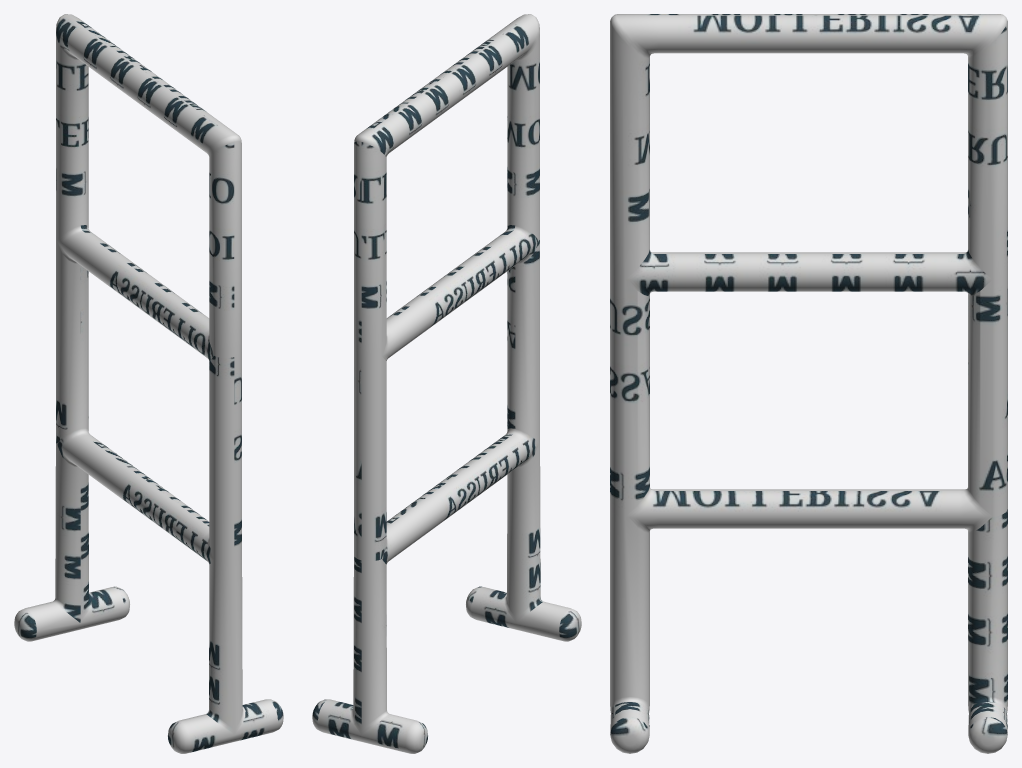
File: ddc_gate7.glb
3 renders of one model, left to right at view 1: azimuth 30°, elevation 25°; view 2: azimuth 150°, elevation 25°; view 3: azimuth 270°, elevation 25°, orthographic. The views are drawn at different scales.
Parts seen in each view (by area): view 1: DDC_Gate7; view 2: DDC_Gate7; view 3: DDC_Gate7.
Part boxes in pixels (box(x1,y1,x2,y2)): DDC_Gate7: box(14, 14, 283, 753); DDC_Gate7: box(312, 14, 581, 753); DDC_Gate7: box(610, 14, 1007, 753).
Bounding box in the file's own units: 1.25 × 6.76 × 3.42.
Materials: 1 (1 with a texture image).
